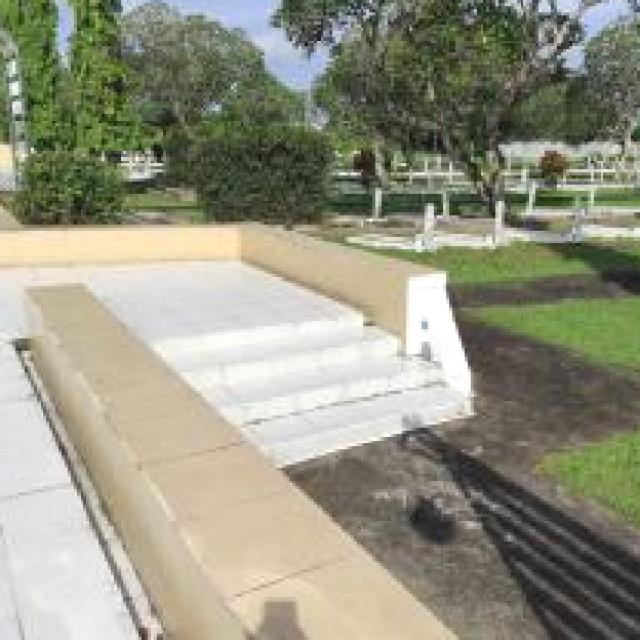upstair: (278, 315, 450, 478)
